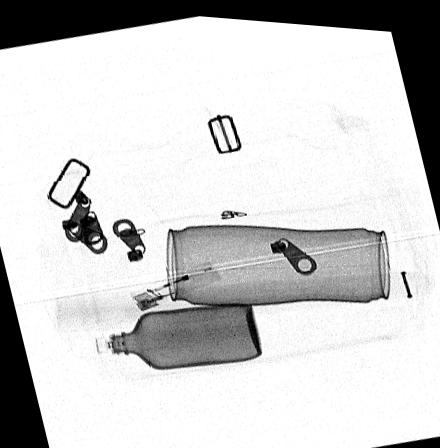Lighter: (129, 256, 221, 310)
